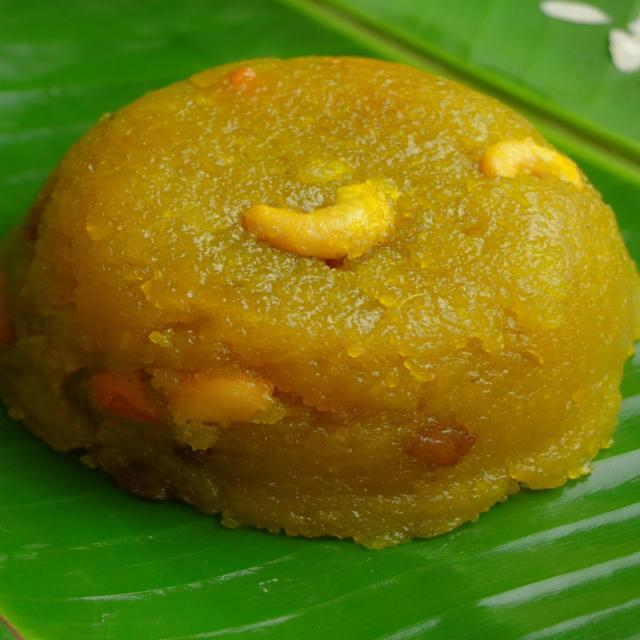kesari bath: (3, 43, 640, 565)
